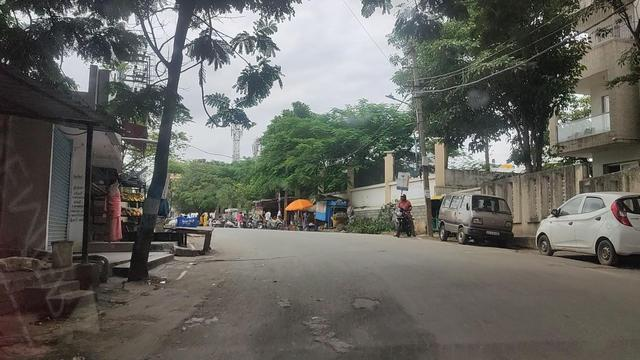RoadDamages: (301, 292, 395, 354)
